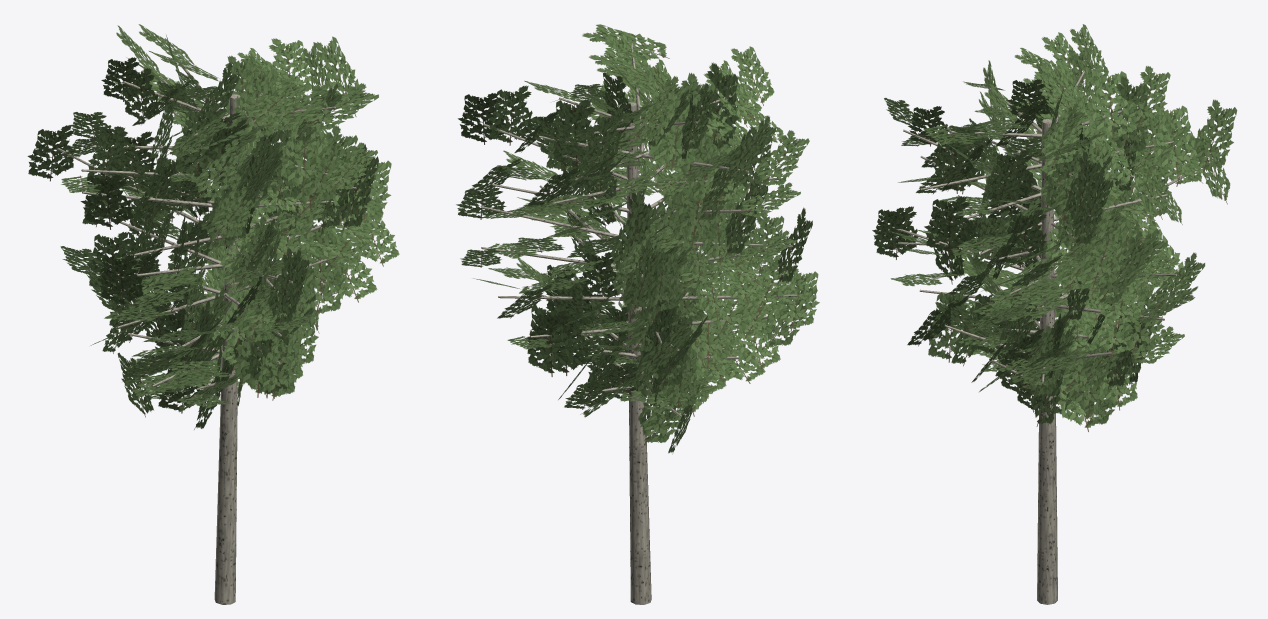
File: birch_near.glb
3 views of the same model, side by side, from view 1: azimuth 30°, elevation 25°; view 2: azimuth 150°, elevation 25°; view 3: azimuth 270°, elevation 25° (orthographic). The views are drawn at different scales.
Visible parts, largest first — view 1: birch_near; view 2: birch_near; view 3: birch_near.
Boxes of the visible parts, x1,y1,x2,y2 form: birch_near: [27, 24, 399, 604]; birch_near: [456, 24, 819, 604]; birch_near: [872, 24, 1237, 604].
Bounding box in the file's own units: 6.24 × 9.5 × 6.27.
2 materials, 2 textured.
